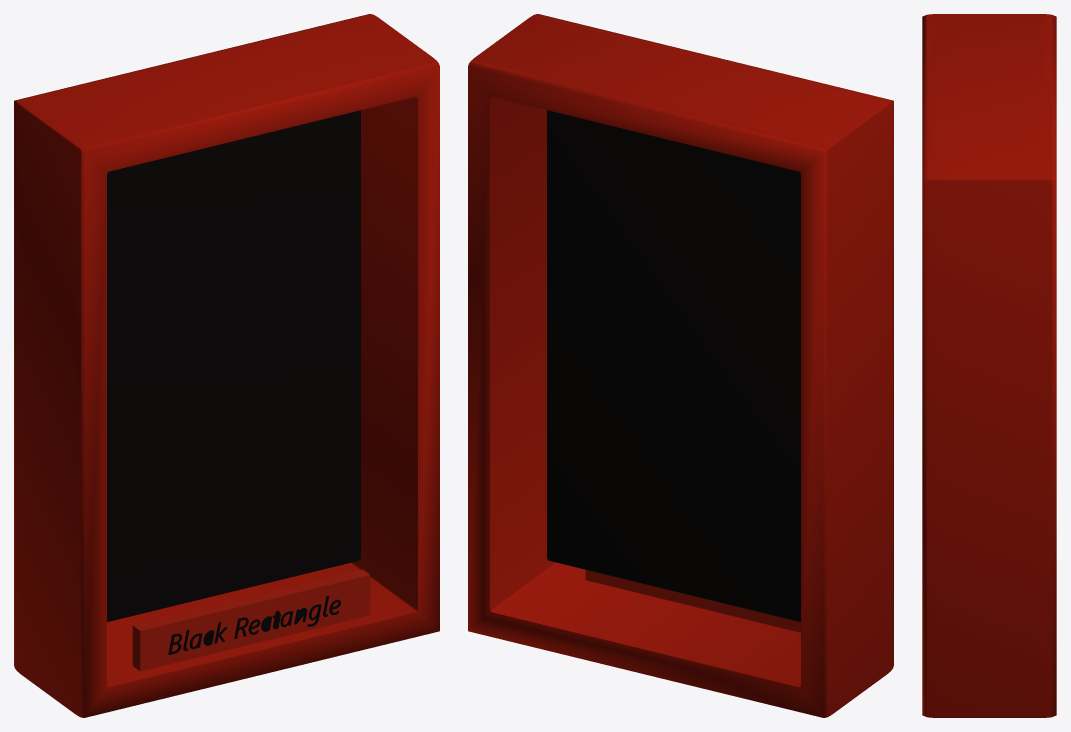
Rendered from Painting2.fbx.
The picture shows the model from 3 angles, left to right: view 1: azimuth 30°, elevation 25°; view 2: azimuth 150°, elevation 25°; view 3: azimuth 270°, elevation 25°; orthographic projection. The views are drawn at different scales.
Parts seen in each view (by area): view 1: Cube_2, Cube, Cube_1, banana_name_1; view 2: Cube_2, Cube, Cube_1, banana_name_1; view 3: Cube.
Boxes of the visible parts, <box> form: Cube_2: <box>107,110,360,621</box>; Cube: <box>14,14,439,717</box>; Cube_1: <box>107,97,417,686</box>; banana_name_1: <box>132,569,370,671</box>; Cube_2: <box>547,110,800,621</box>; Cube: <box>468,14,893,717</box>; Cube_1: <box>490,97,800,686</box>; banana_name_1: <box>585,570,800,632</box>; Cube: <box>922,14,1056,717</box>.
Size of the model in its own units: 32.43 by 49.14 by 11.09.
Materials: 4 (1 with a texture image).
